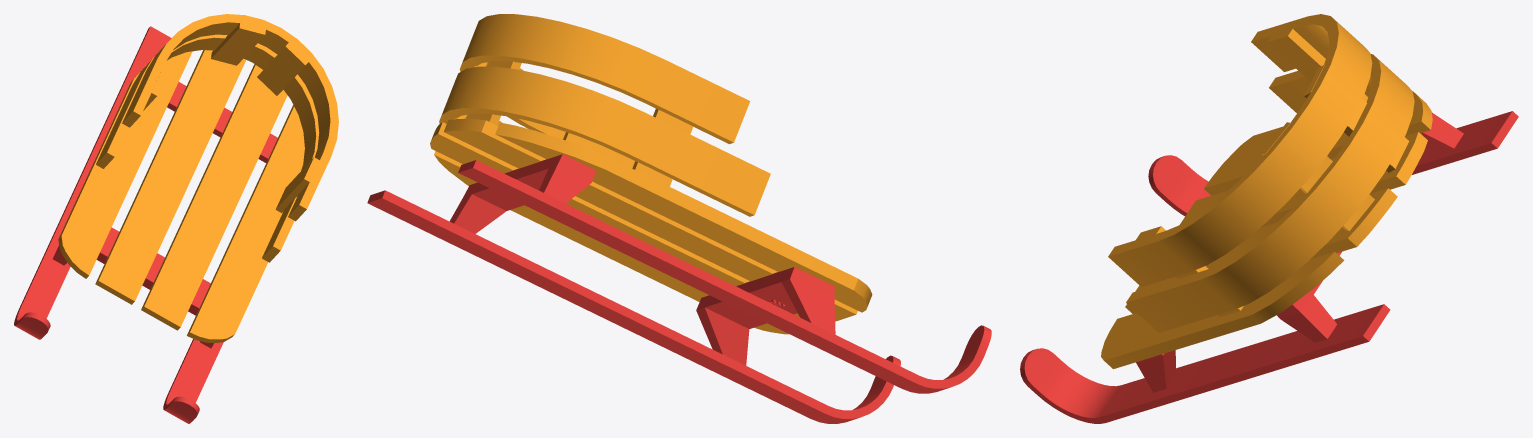
The model's file is sled.fbx.
3 views of the same model, side by side, from view 1: azimuth 30°, elevation 25°; view 2: azimuth 150°, elevation 25°; view 3: azimuth 270°, elevation 25° (orthographic). The views are drawn at different scales.
Parts seen in each view (by area): view 1: Plane.309; view 2: Plane.309; view 3: Plane.309.
Boxes of the visible parts, x1,y1,x2,y2 form: Plane.309: [14, 14, 338, 423]; Plane.309: [367, 14, 991, 423]; Plane.309: [1020, 14, 1518, 423].
Size of the model in its own units: 232 by 191 by 185.
Materials: 1 (1 with a texture image).
